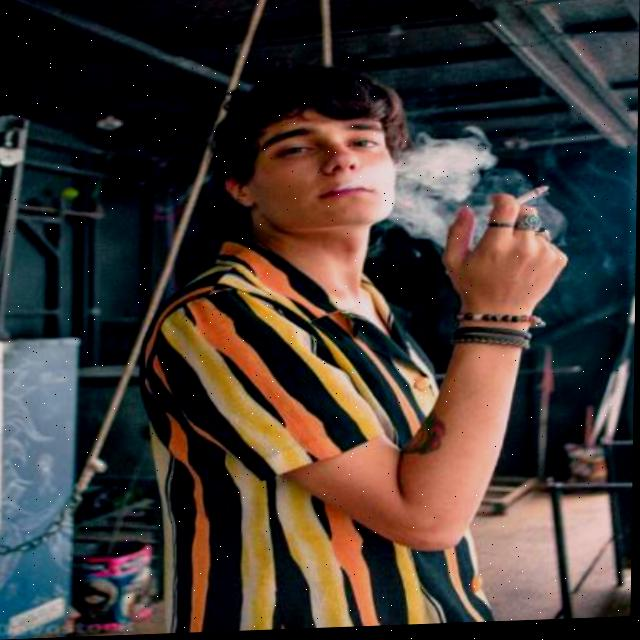cigarette: (517, 187, 552, 212)
